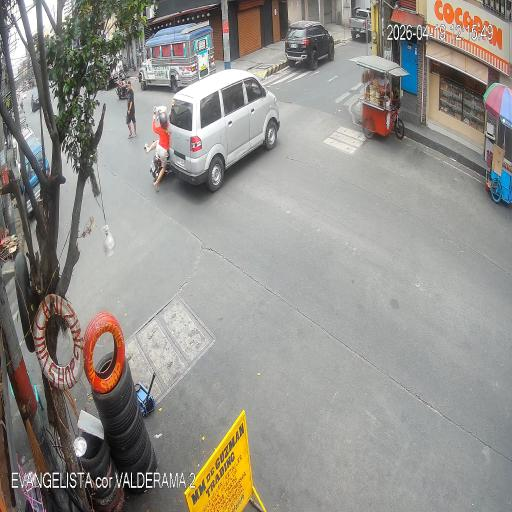Car: (168, 80, 304, 197), (284, 16, 335, 69), (343, 10, 378, 64)
Minor Accident: (143, 66, 291, 193)
Motor: (140, 87, 170, 199)
